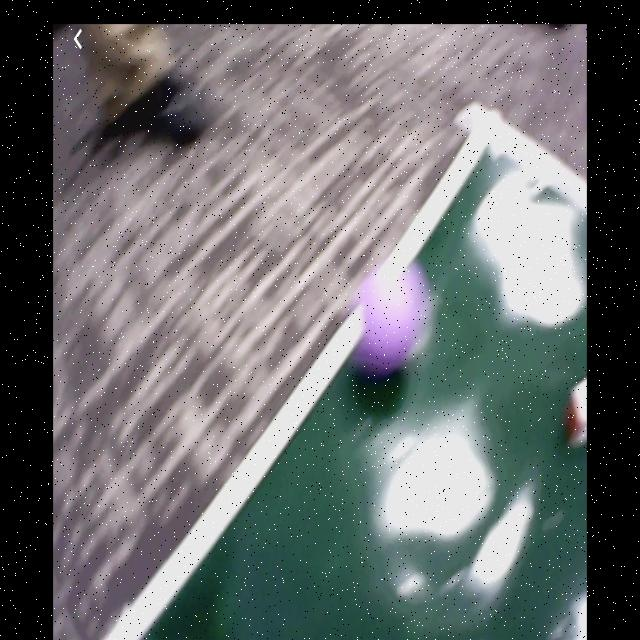ball: (364, 265, 424, 369)
